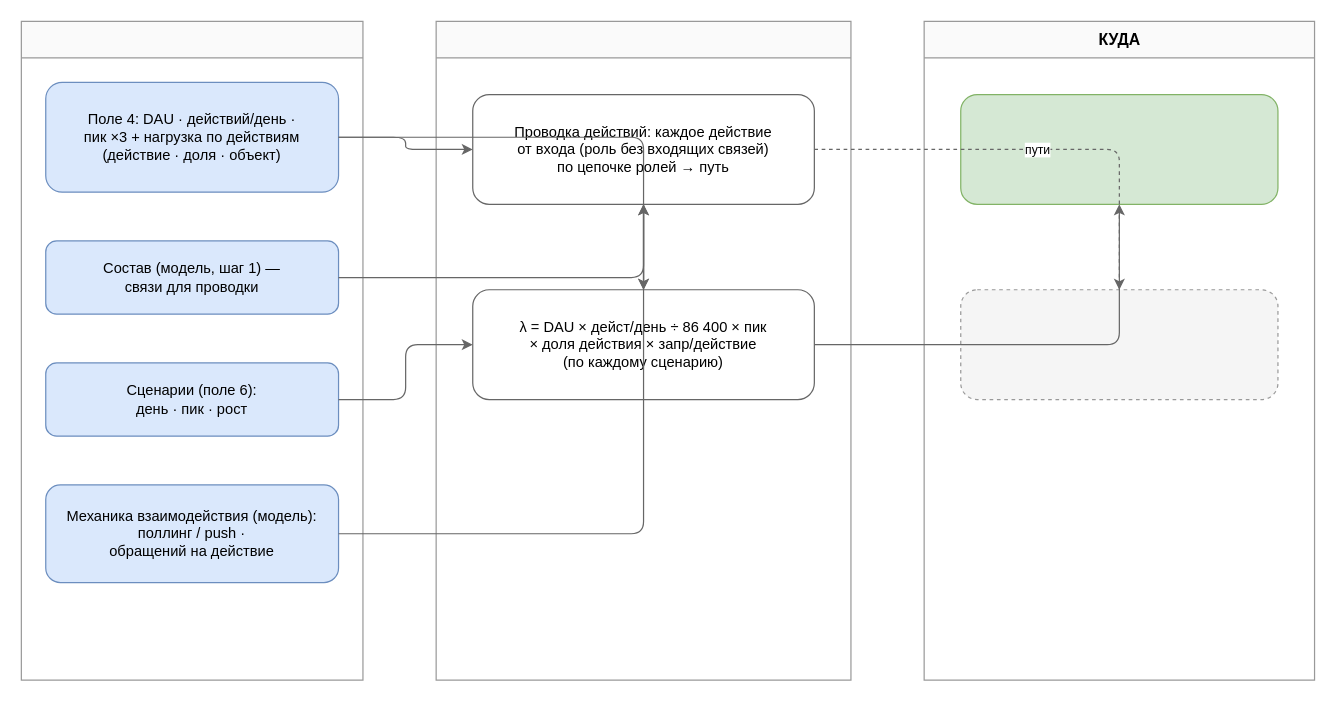
This 1336x702 diagram has some shape labels left out. The box of each missing label's shape, as (x1, y1, x2, y2) in pixels:
КАК: (435, 20, 851, 680)
нагрузка_на_роли (роль · сценарий · λ запр/с) — производные модели: (960, 93, 1278, 204)
ОТКУДА: (20, 20, 363, 680)
пути — в память прогона: читают П3 (Σ фаз) и П5 (W); в модель не пишутся: (960, 289, 1278, 400)
